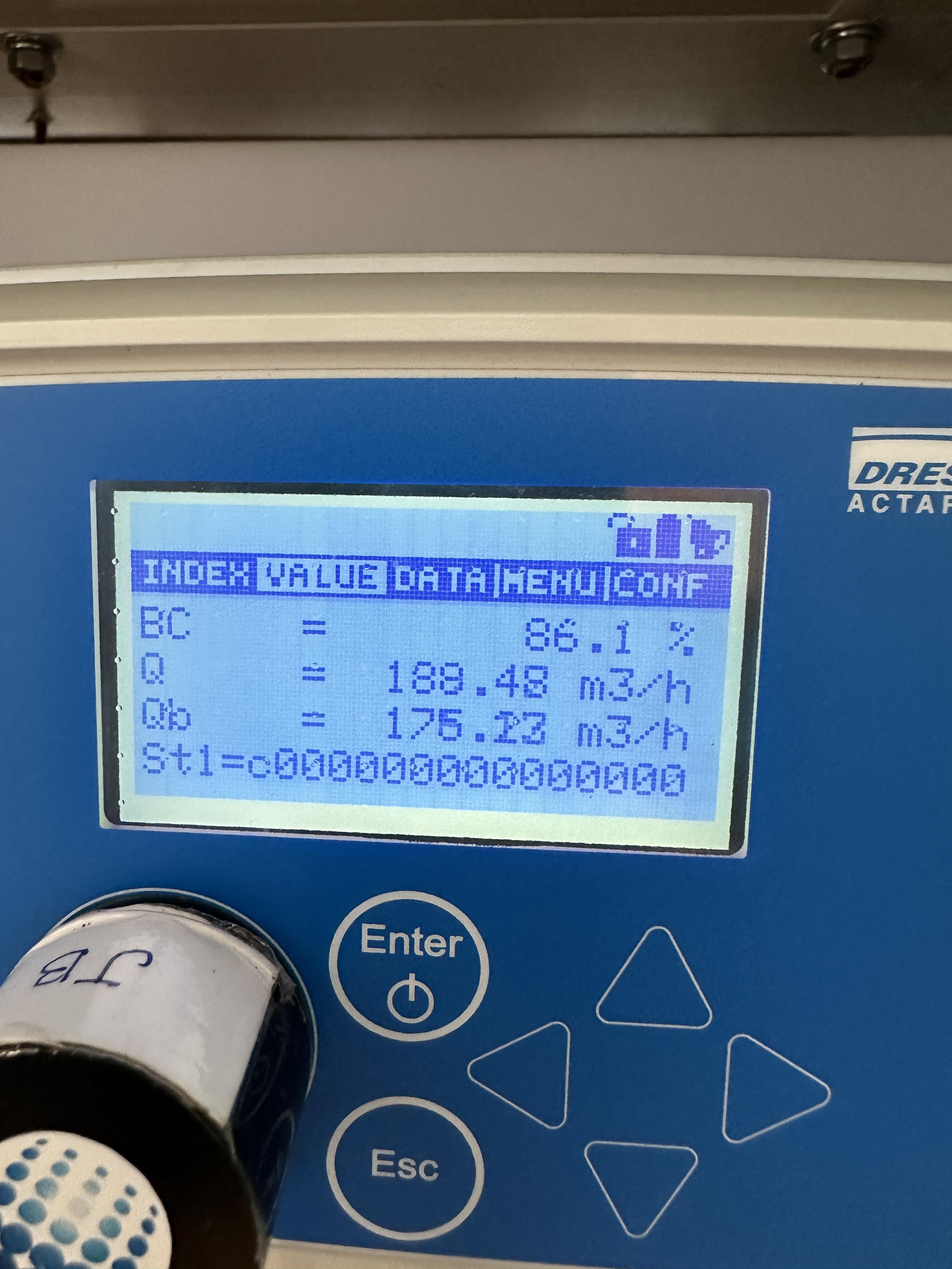digital_screen: (97, 473, 752, 850)
